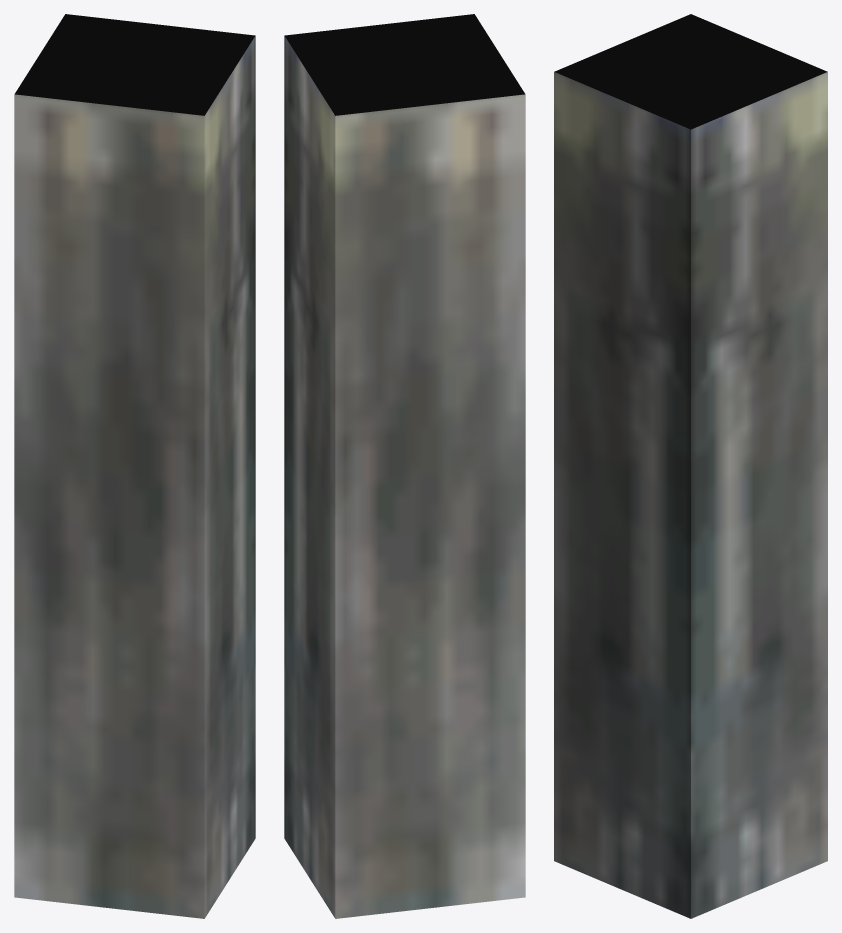
File: Shared - Ground Vehicles - Big Rig - Damage State 19 - CVBigRig_d19.glb
3 views of the same model, side by side, from view 1: azimuth 30°, elevation 25°; view 2: azimuth 150°, elevation 25°; view 3: azimuth 270°, elevation 25° (orthographic).
Visible parts, largest first — view 1: CVBIGRIG_D19; view 2: CVBIGRIG_D19; view 3: CVBIGRIG_D19.
Part boxes in pixels (box(x1,y1,x2,y2)): CVBIGRIG_D19: box(14, 14, 255, 918); CVBIGRIG_D19: box(284, 14, 525, 918); CVBIGRIG_D19: box(554, 14, 827, 918).
Bounding box in the file's own units: 1.79 × 5.69 × 1.79.
Materials: 1 (1 with a texture image).
